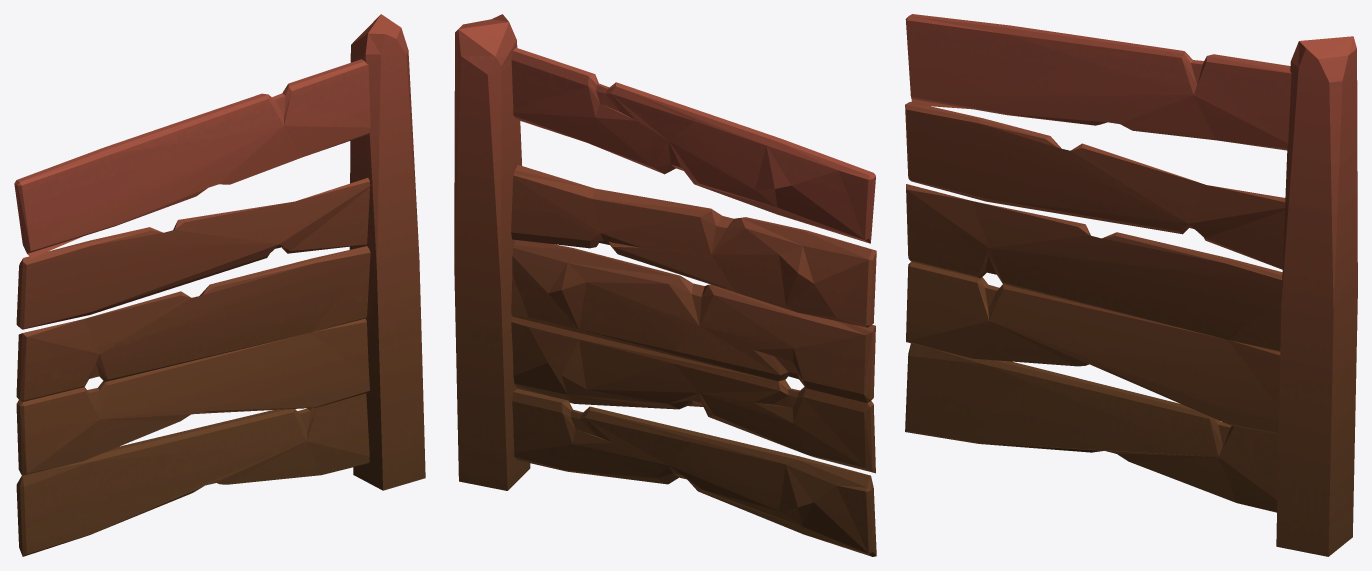
3 renders of one model, left to right at view 1: azimuth 30°, elevation 25°; view 2: azimuth 150°, elevation 25°; view 3: azimuth 330°, elevation 25°, orthographic. The views are drawn at different scales.
Parts seen in each view (by area): view 1: WoodenWallDamaged1; view 2: WoodenWallDamaged1; view 3: WoodenWallDamaged1.
Part boxes in pixels (box(x1,y1,x2,y2)): WoodenWallDamaged1: box(14, 14, 425, 556); WoodenWallDamaged1: box(454, 14, 876, 556); WoodenWallDamaged1: box(905, 14, 1357, 556).
Size of the model in its own units: 2.64 by 2.85 by 0.4406.
Materials: 1 (1 with a texture image).
